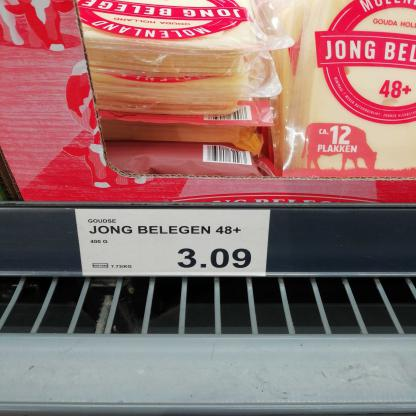prtg: (75, 210, 271, 277)
